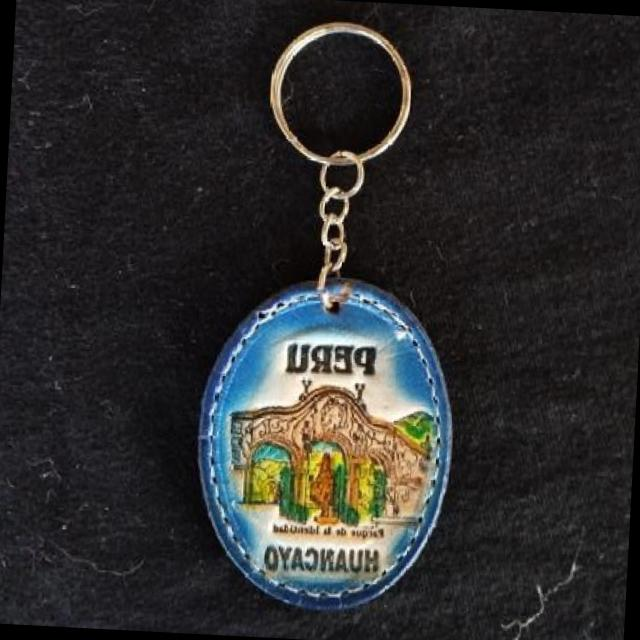Llavero: (188, 271, 462, 618)
